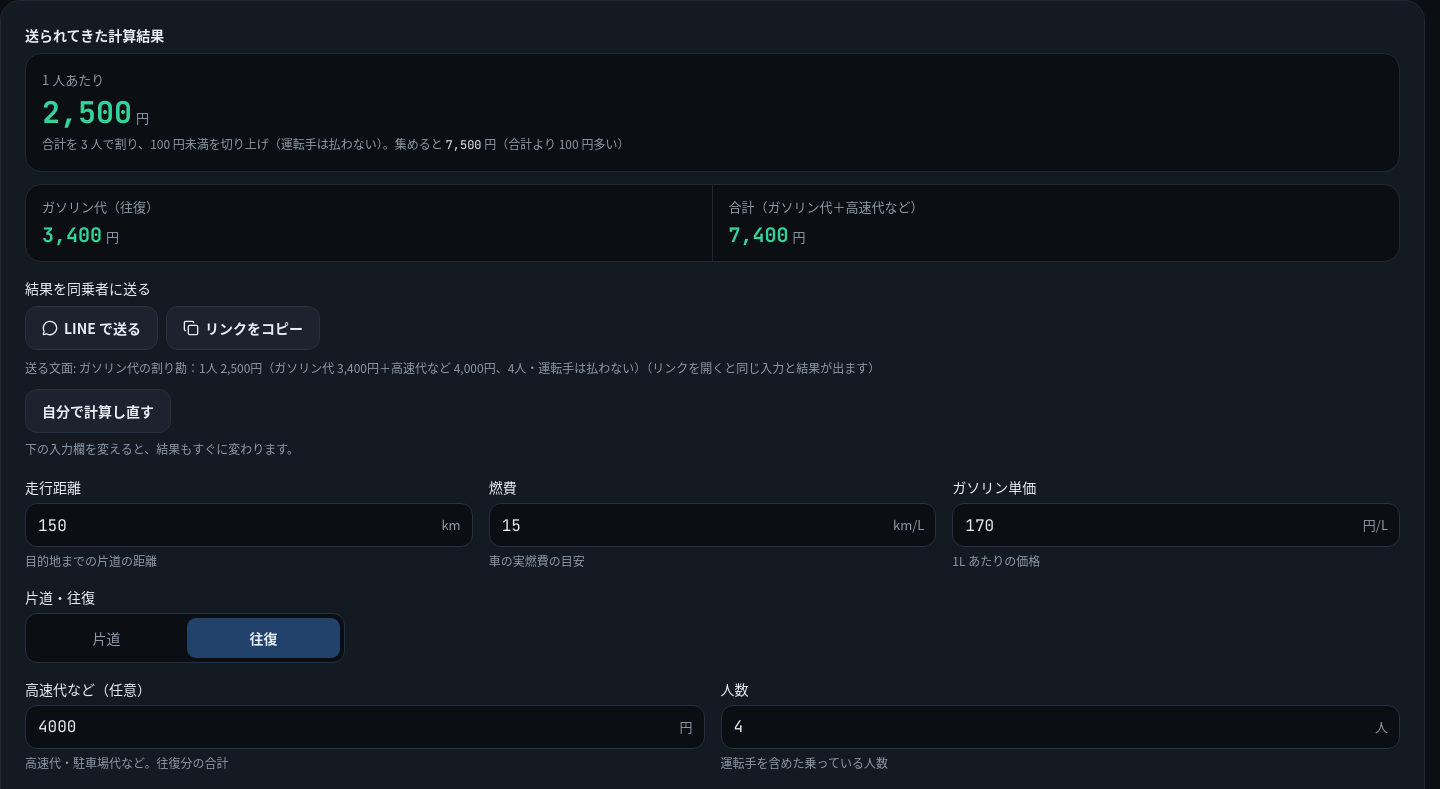
WarikanCalculator › 共有リンクで開くと同じ入力と結果を先に出し、「自分で計算し直す」で入力欄へ
Expected: the text "送られてきた計算結果" is shown, 25,25 -> 164,45
Expected: the text "2,500" is shown, 42,94 -> 132,130
Click the button "自分で計算し直す" at (98, 411), box 25,389 -> 171,433
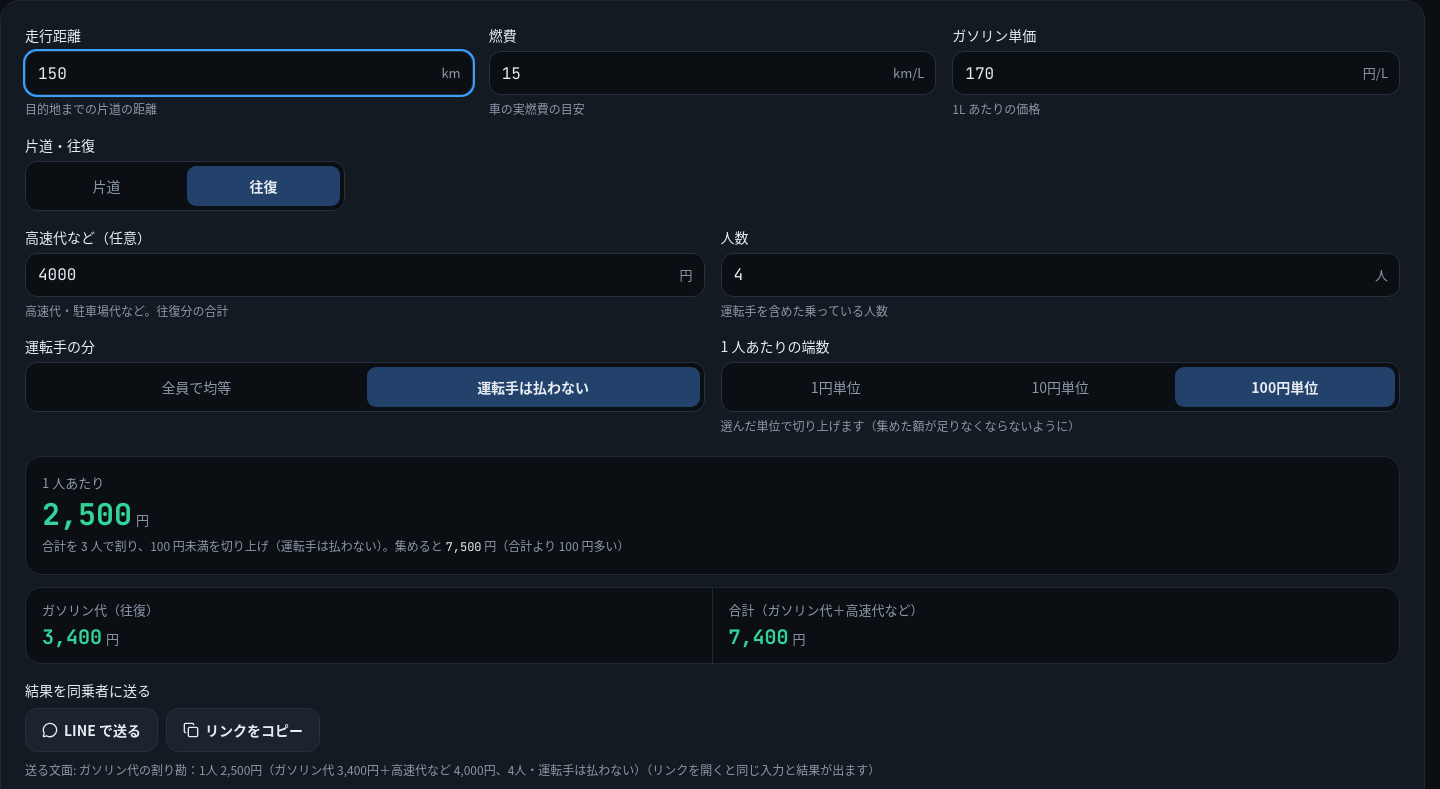
Expected: the text "送られてきた計算結果" is gone
